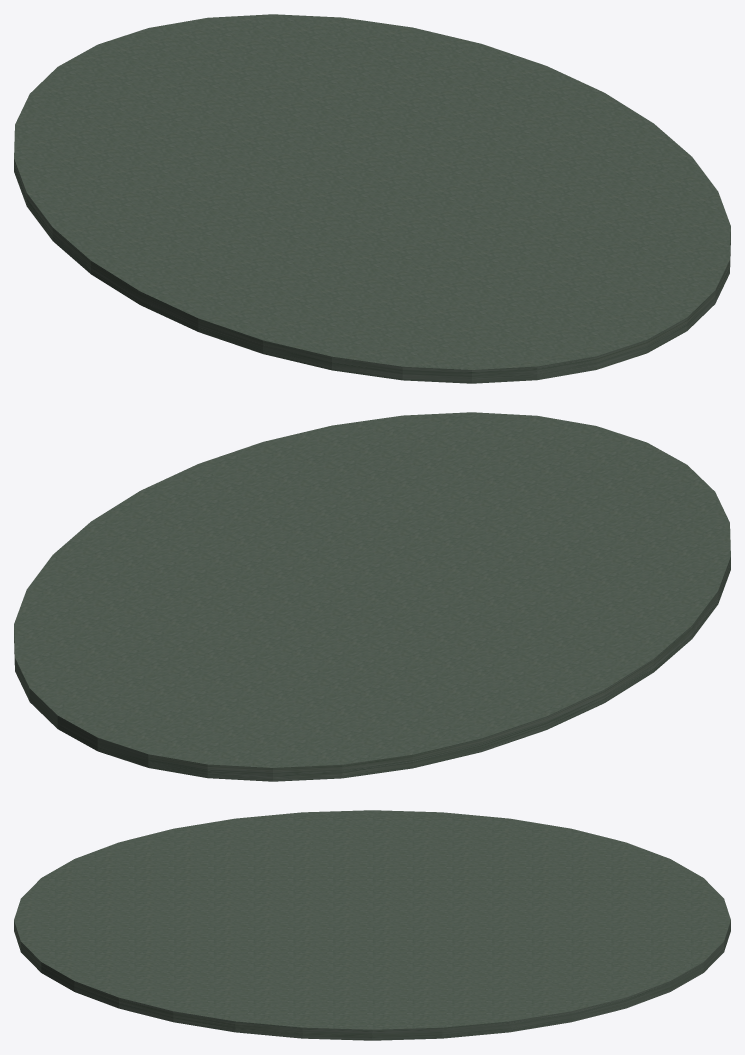
Rendered from stadion2_ground.obj.
3 renders of one model, top to bottom at view 1: azimuth 30°, elevation 25°; view 2: azimuth 150°, elevation 25°; view 3: azimuth 270°, elevation 25°, orthographic. The views are drawn at different scales.
Parts seen in each view (by area): view 1: Cylinder; view 2: Cylinder; view 3: Cylinder.
Boxes of the visible parts, left/top/right/bottom form: Cylinder: left=14, top=14, right=730, bottom=383; Cylinder: left=14, top=412, right=730, bottom=781; Cylinder: left=14, top=810, right=730, bottom=1040.
Bounding box in the file's own units: 27.01 × 0.6293 × 37.27.
